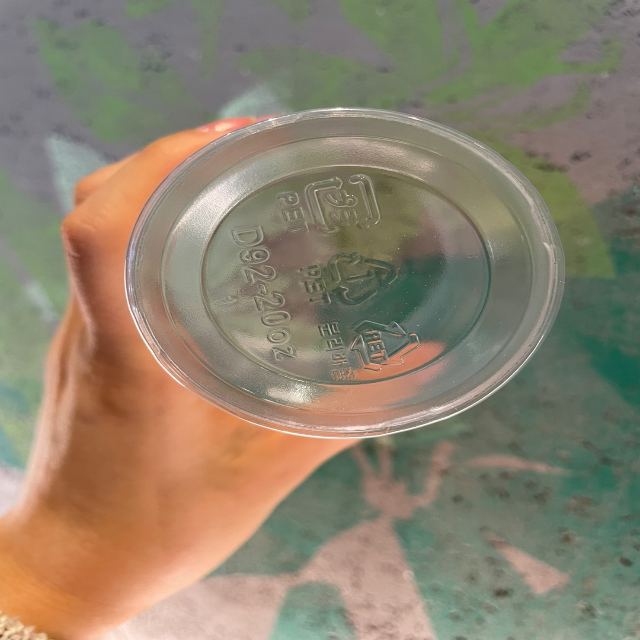pet: (273, 168, 387, 243), (292, 246, 410, 316), (316, 316, 427, 382)
